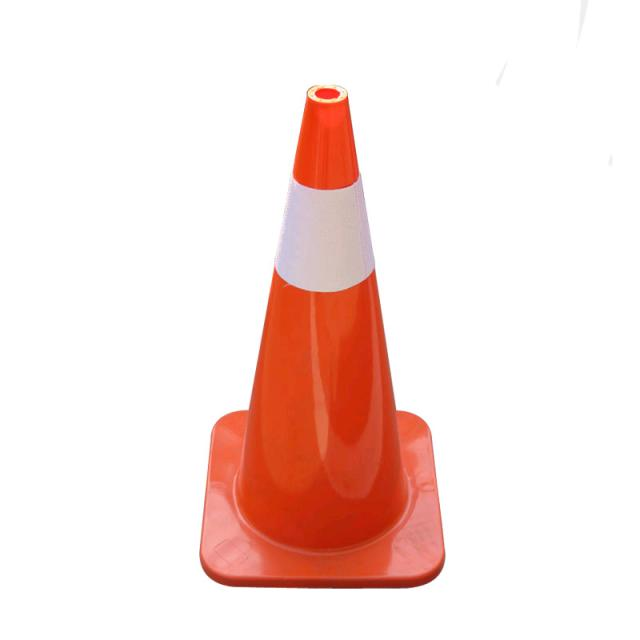reflective_cone: (195, 76, 450, 586)
